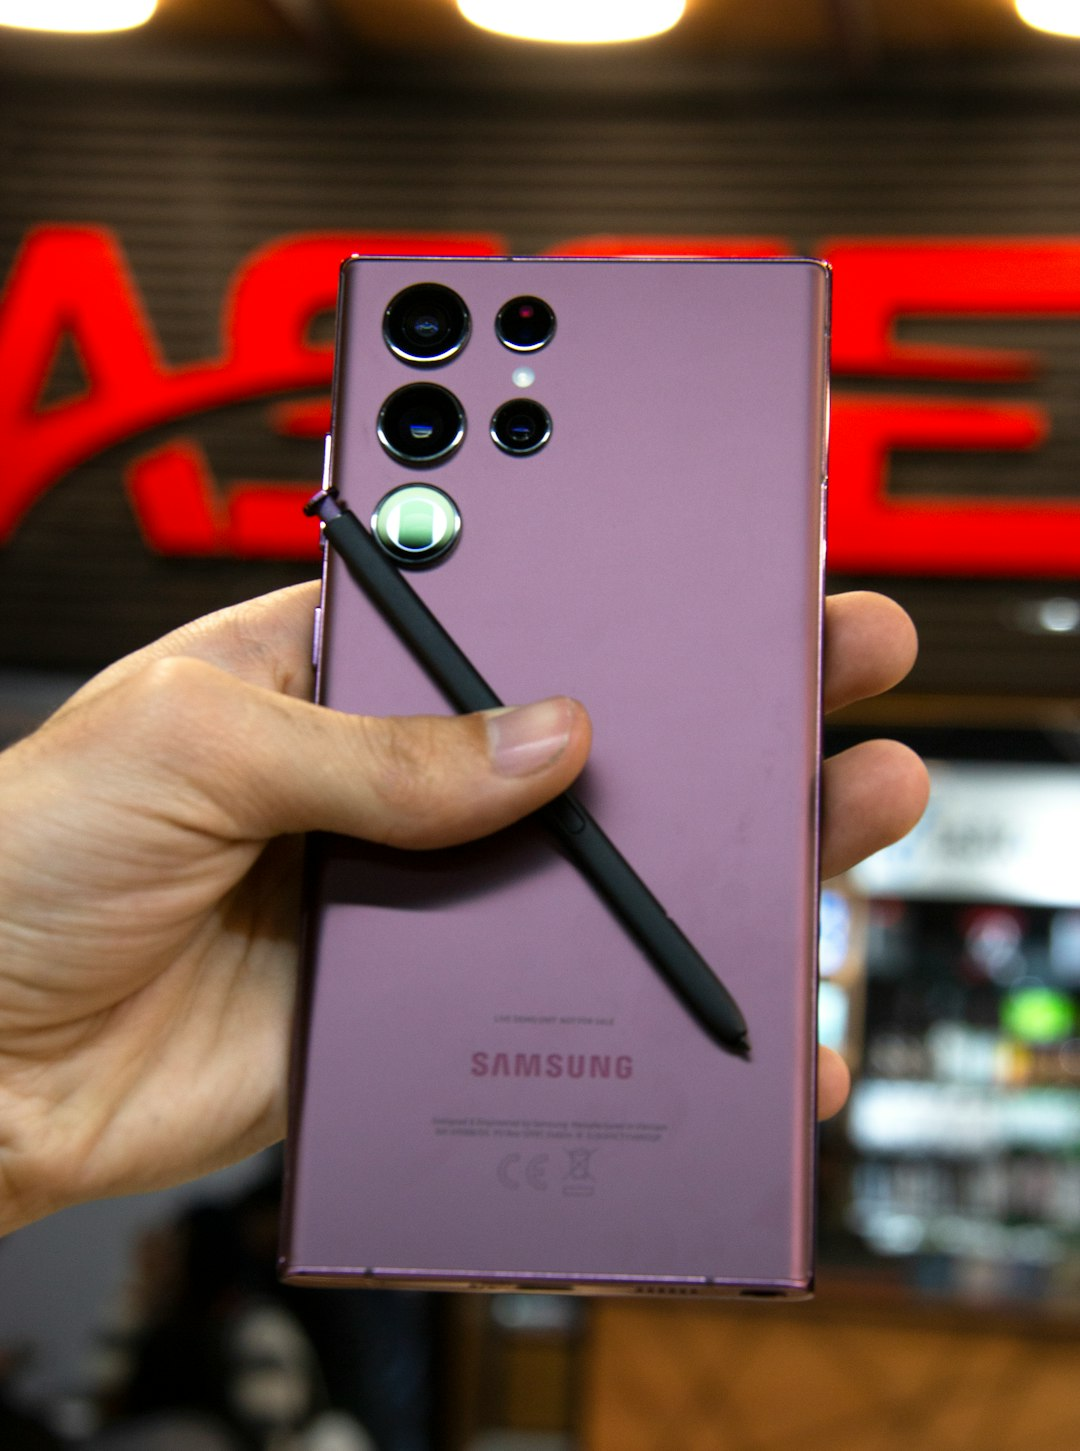phone: (269, 245, 838, 1307)
